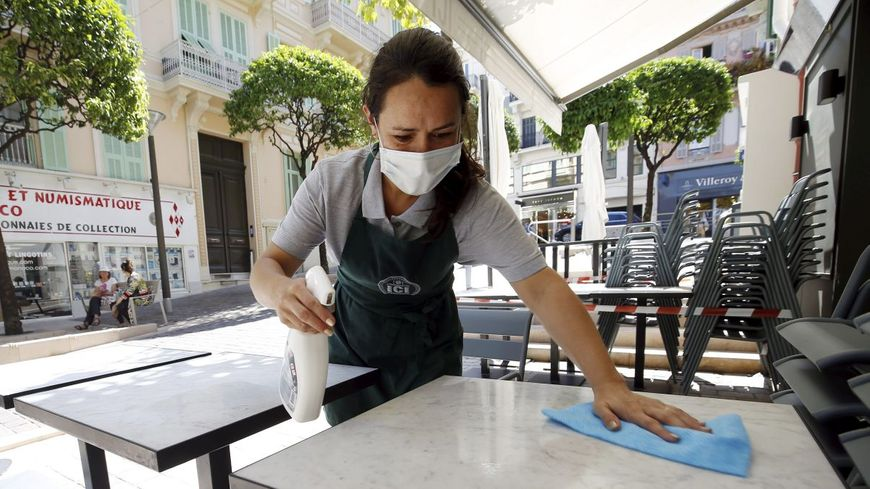with_mask: (371, 91, 461, 195)
